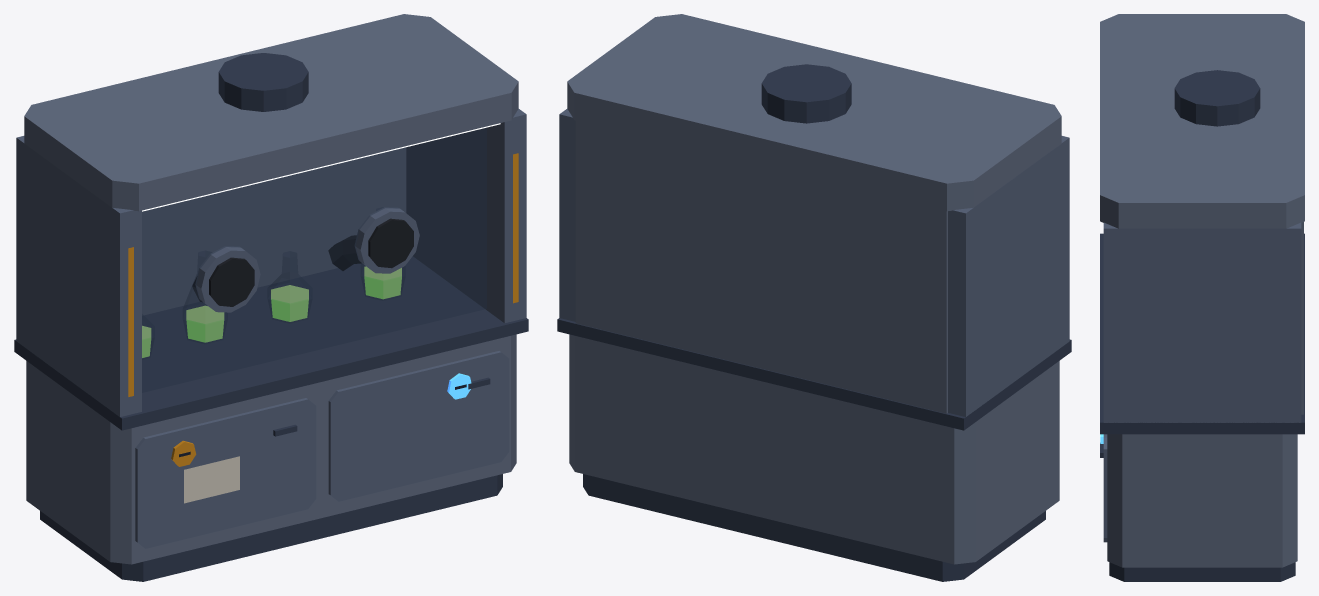
Rendered from lab_chem_fume_hood.glb.
3 views of the same model, side by side, from view 1: azimuth 30°, elevation 25°; view 2: azimuth 150°, elevation 25°; view 3: azimuth 270°, elevation 25° (orthographic). The views are drawn at different scales.
Visible parts, largest first — view 1: cabinet, access_door, flask, baffle_slot, gauntlet, reagent, gas_valve, print, diffuser; view 2: cabinet, access_door, baffle_slot; view 3: cabinet, access_door, baffle_slot.
Boxes of the visible parts, left/top/right/bottom form: cabinet: left=24, top=14, right=518, bottom=564; access_door: left=16, top=109, right=526, bottom=548; flask: left=142, top=128, right=486, bottom=392; baffle_slot: left=14, top=53, right=528, bottom=581; gauntlet: left=192, top=218, right=413, bottom=306; reagent: left=142, top=266, right=401, bottom=357; gas_valve: left=128, top=153, right=518, bottom=466; print: left=184, top=456, right=239, bottom=503; diffuser: left=142, top=123, right=500, bottom=211; cabinet: left=567, top=14, right=1061, bottom=564; access_door: left=559, top=109, right=1069, bottom=416; baffle_slot: left=557, top=64, right=1071, bottom=581; cabinet: left=1100, top=14, right=1304, bottom=567; access_door: left=1103, top=222, right=1301, bottom=542; baffle_slot: left=1100, top=70, right=1304, bottom=581.
Bounding box in the file's own units: 2.4 × 2.4 × 1.1.
